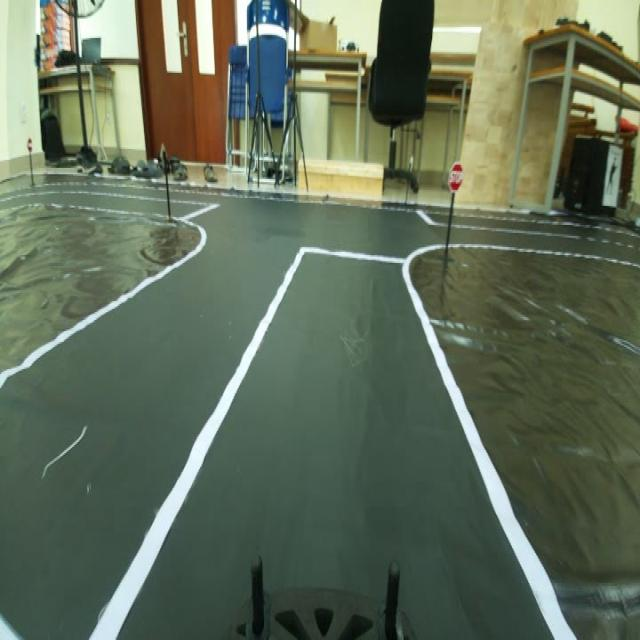stop: (444, 157, 470, 201)
